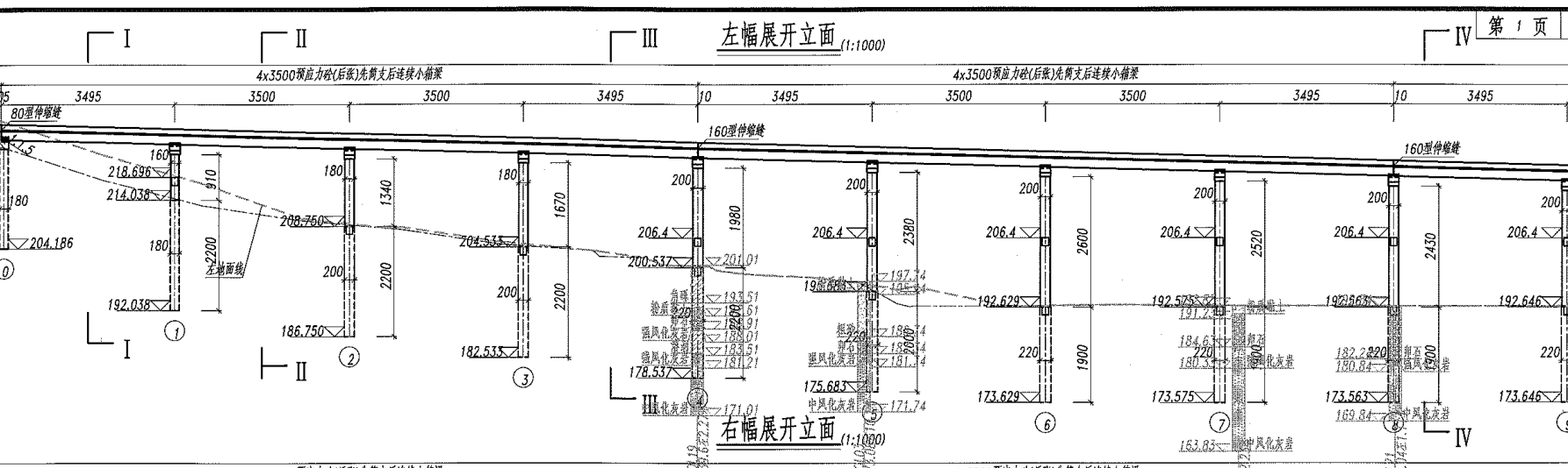B: (1, 62, 708, 89), (691, 67, 1404, 89)
C: (969, 158, 1066, 439), (1142, 162, 1238, 438), (797, 155, 892, 427), (1319, 166, 1414, 437), (622, 149, 716, 412), (270, 139, 370, 374), (451, 145, 544, 393), (1492, 171, 1567, 438), (101, 136, 194, 346)
